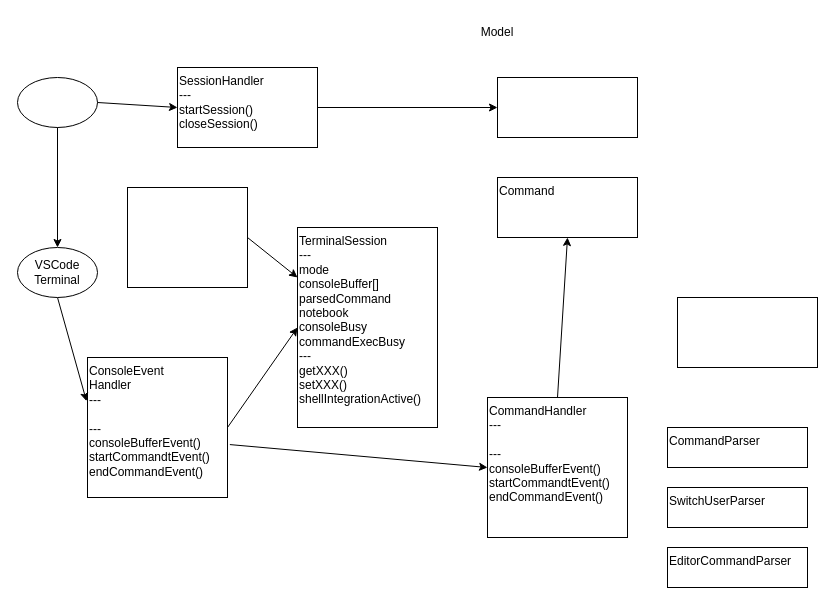
The diagram is 835 pixels wide and 605 high, and some of its shapes have lost their labels. The shapes that lost their labels are listed below. From the top down, each one's box as (x1, y1, x2, y2) in pixels, then its label:
(16, 76, 98, 128): VSCode
(496, 76, 638, 138): Session
(126, 186, 248, 288): TerminalSession Manager --- terminalSessions --- monitor()
(676, 296, 818, 368): notebookProvider
